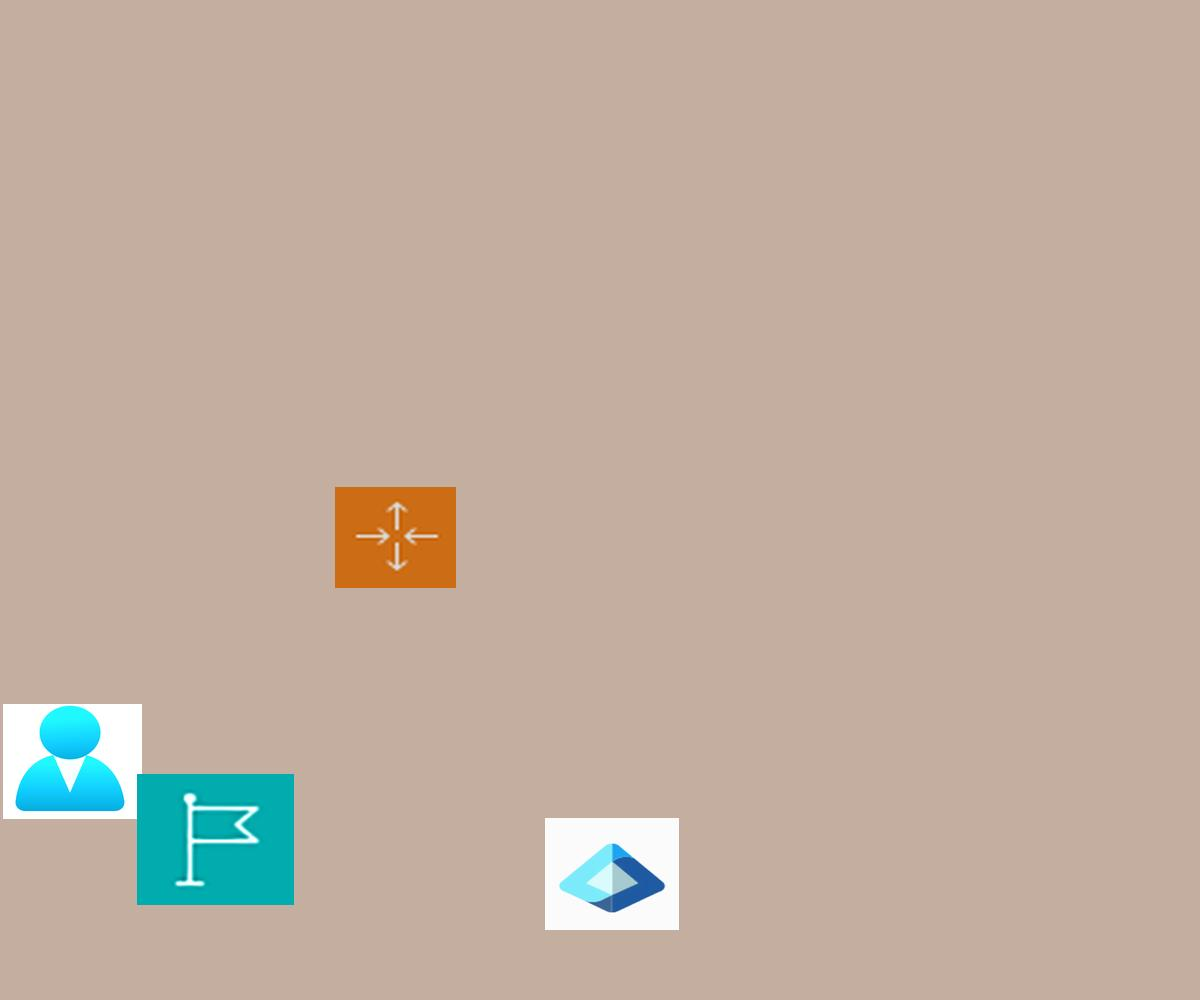AWS-Region: (137, 774, 294, 905)
AWS-Scaling-group: (335, 487, 456, 588)
Azure_microsoft_entra: (545, 818, 679, 930)
Azure_users: (3, 704, 142, 819)
